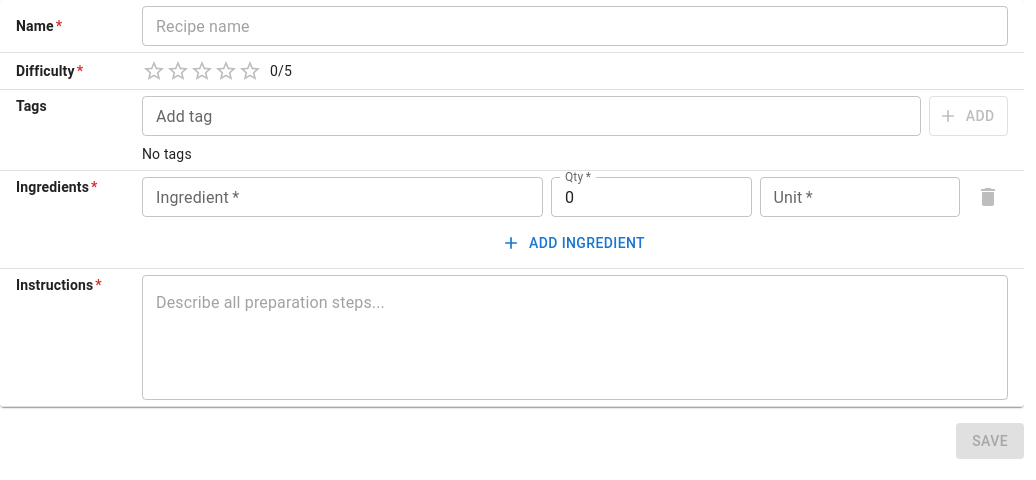
Test: RecipeForm › tag management › adds a tag when Enter is pressed in the tag input
Type "quick" into the field with placeholder "e.g. vegan" at (531, 116), box [142, 96, 920, 136]
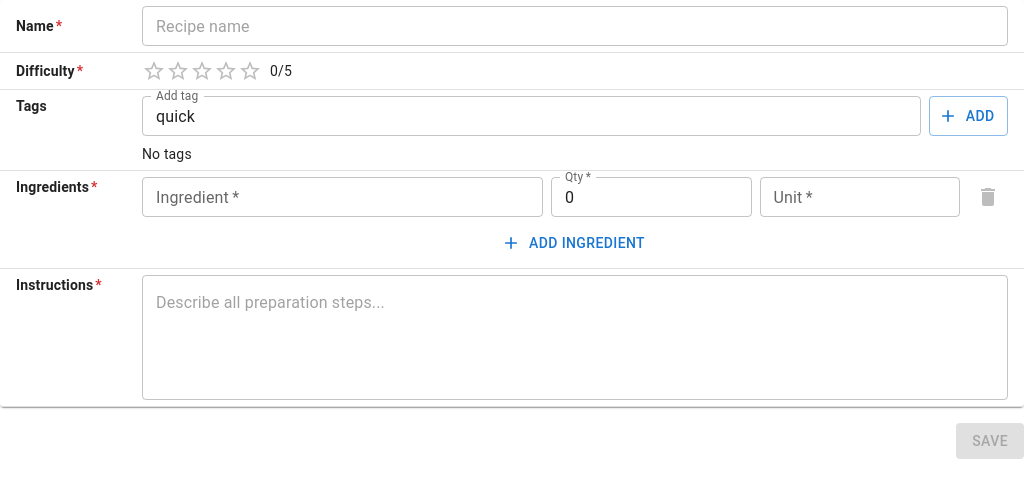
Press Enter in the field with placeholder "e.g. vegan", box [142, 96, 920, 136]
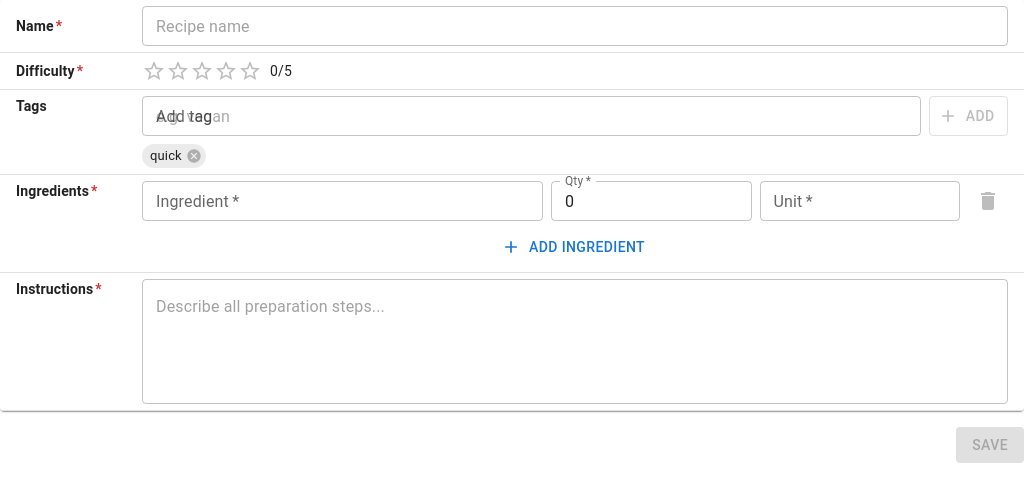
Check: the text "quick" is shown, box [150, 148, 182, 163]
